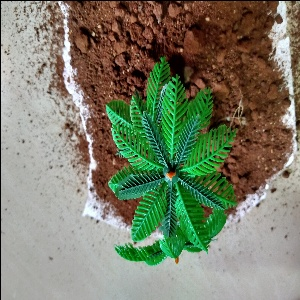plant: (96, 57, 239, 267)
